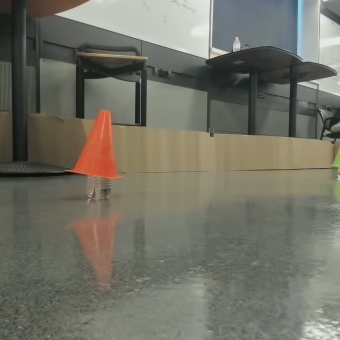Cone: (86, 105, 128, 171)
